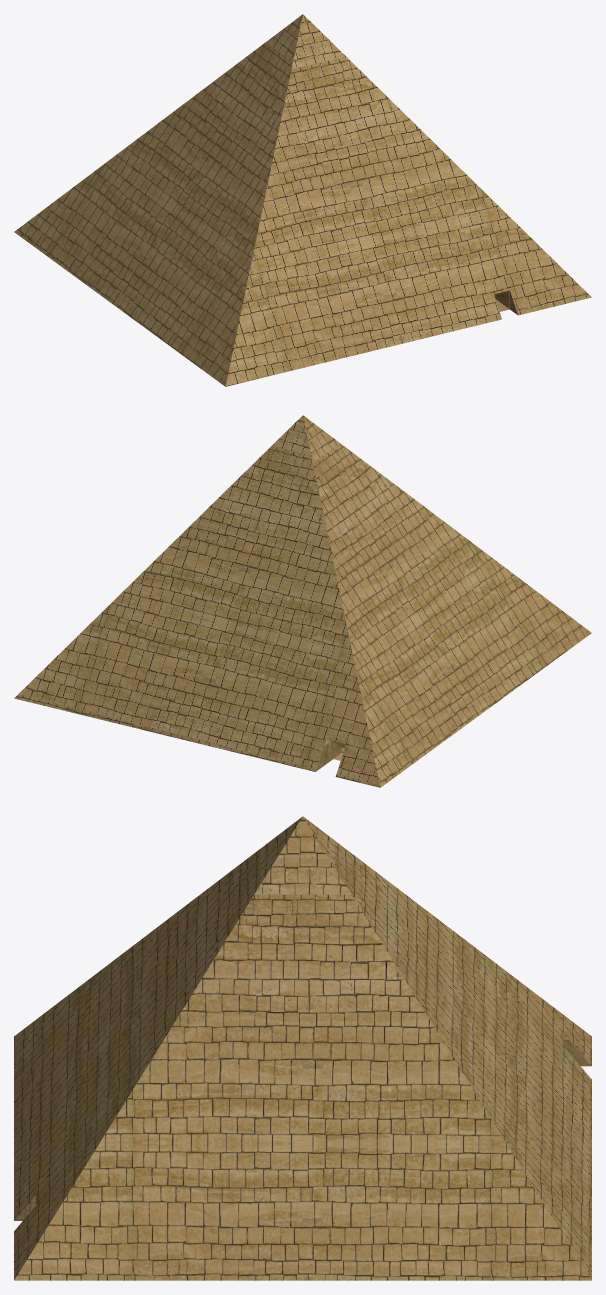
The picture shows the model from 3 angles, top to bottom: view 1: azimuth 30°, elevation 25°; view 2: azimuth 150°, elevation 25°; view 3: azimuth 270°, elevation 25°; orthographic projection. The views are drawn at different scales.
Parts seen in each view (by area): view 1: 本体A.001; view 2: 本体A.001; view 3: 本体A.001.
Part boxes in pixels (x1,y1,x2,y2): 本体A.001: [14, 14, 591, 386]; 本体A.001: [14, 415, 591, 787]; 本体A.001: [14, 816, 591, 1280].
Size of the model in its own units: 55.08 by 36 by 55.08.
Materials: 15 (3 with a texture image).
